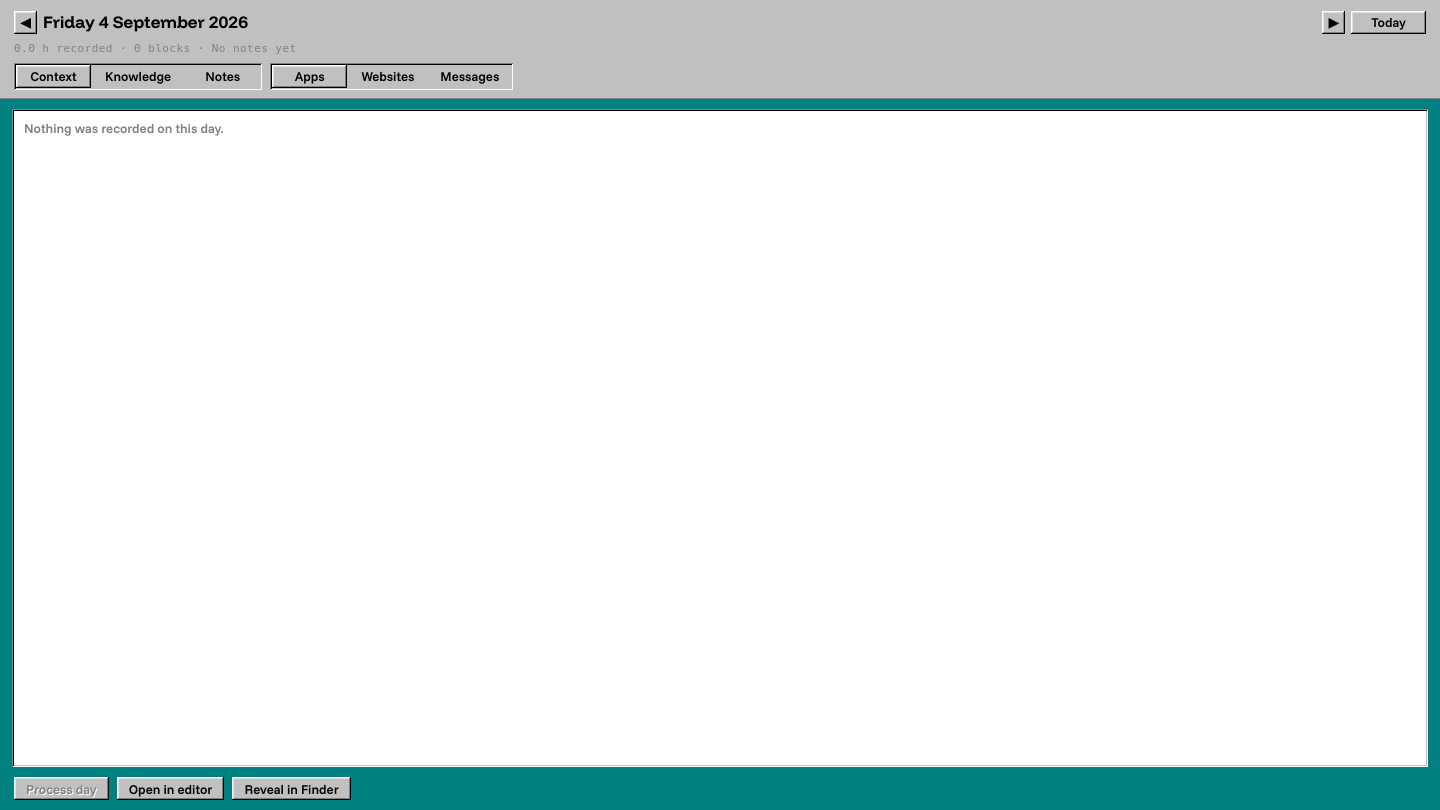
Test: DayView › shows one knowledge section at a time, chosen from the strip
Click the tab "Knowledge".
click(138, 76)  # box x1=93 y1=65 x2=183 y2=88
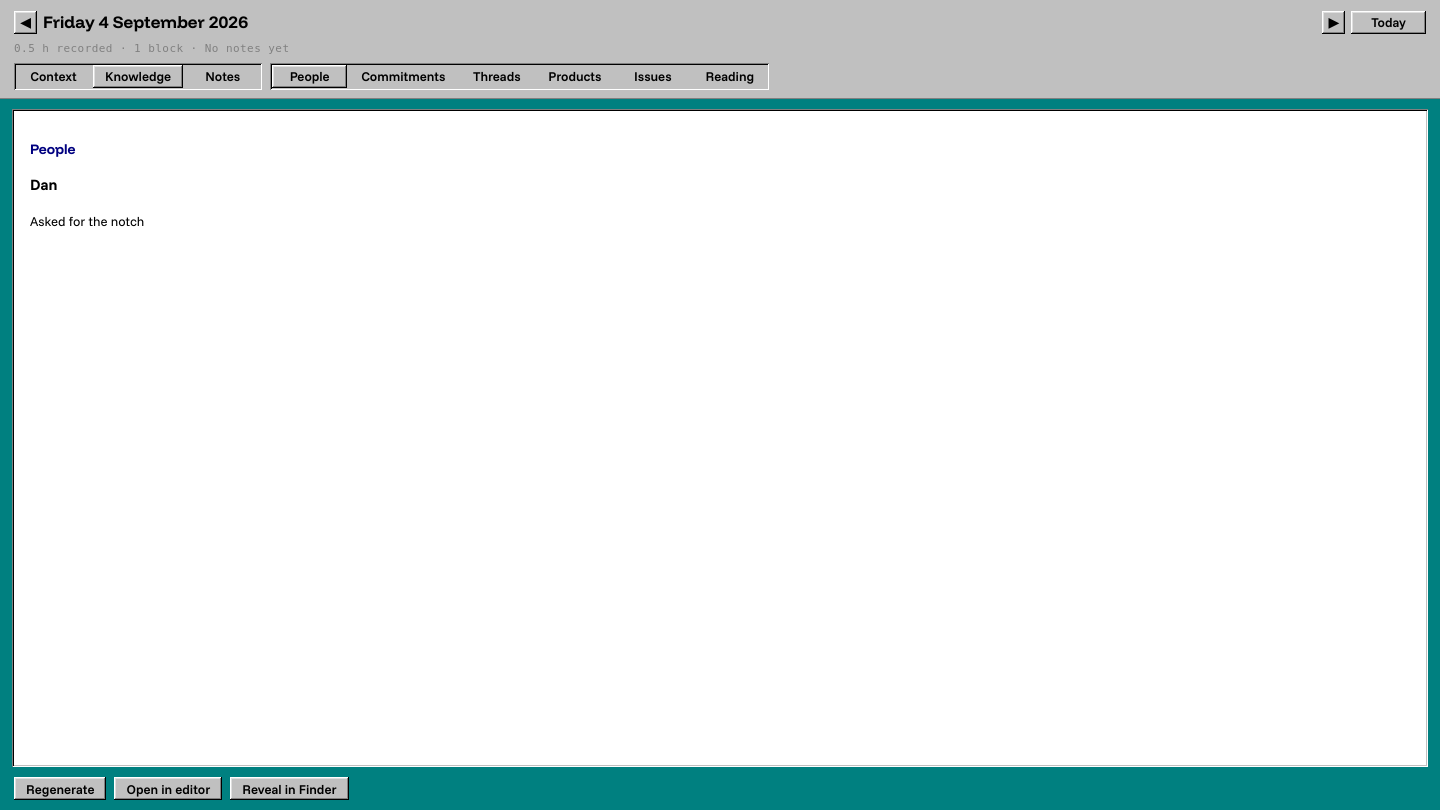
Expected: the text "the eye stutters" is not shown
Expected: the heading "Dan" is shown, x1=30 y1=175 x2=58 y2=194
Click the tab "Issues".
click(653, 76)  # box x1=615 y1=65 x2=690 y2=88
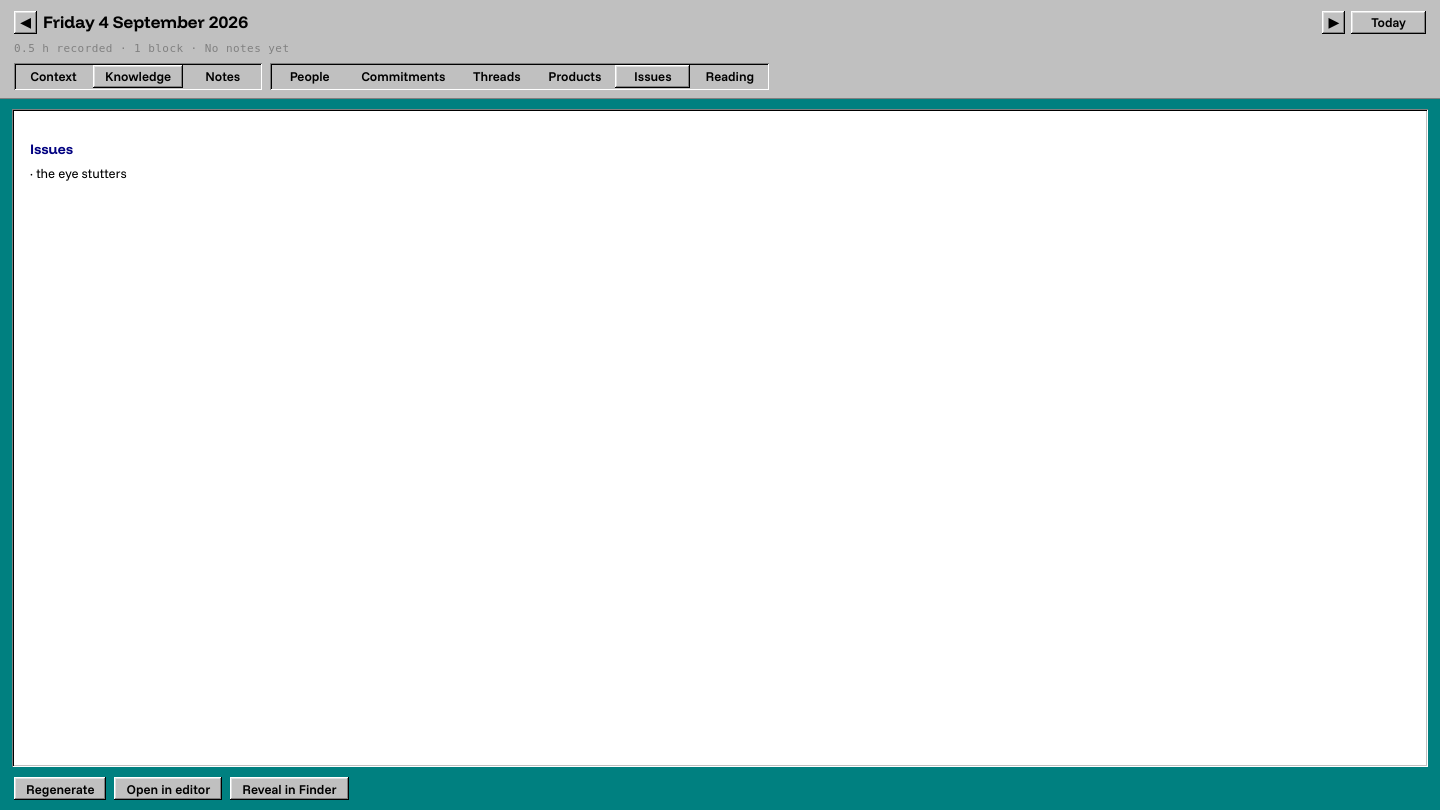
Expected: the button "Regenerate" is shown, x1=14 y1=777 x2=106 y2=800
Expected: the text "the eye stutters" is shown, x1=36 y1=165 x2=126 y2=181
Expected: the heading "Dan" is gone
